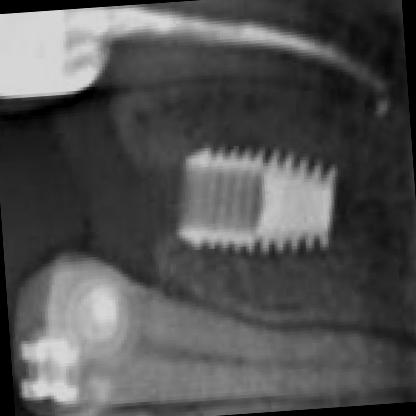Bicon: (172, 142, 348, 270)
